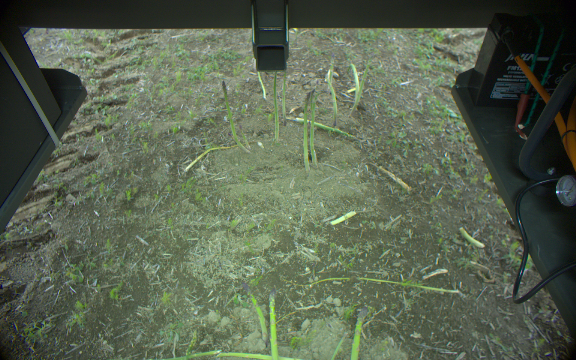aspa: (220, 80, 247, 154), (240, 282, 268, 348), (305, 83, 320, 171), (349, 61, 372, 117), (266, 289, 283, 360), (350, 305, 371, 360), (324, 59, 340, 127), (268, 71, 283, 143), (300, 90, 310, 167), (344, 58, 360, 95), (280, 72, 289, 130), (253, 73, 268, 100), (239, 125, 251, 151)
